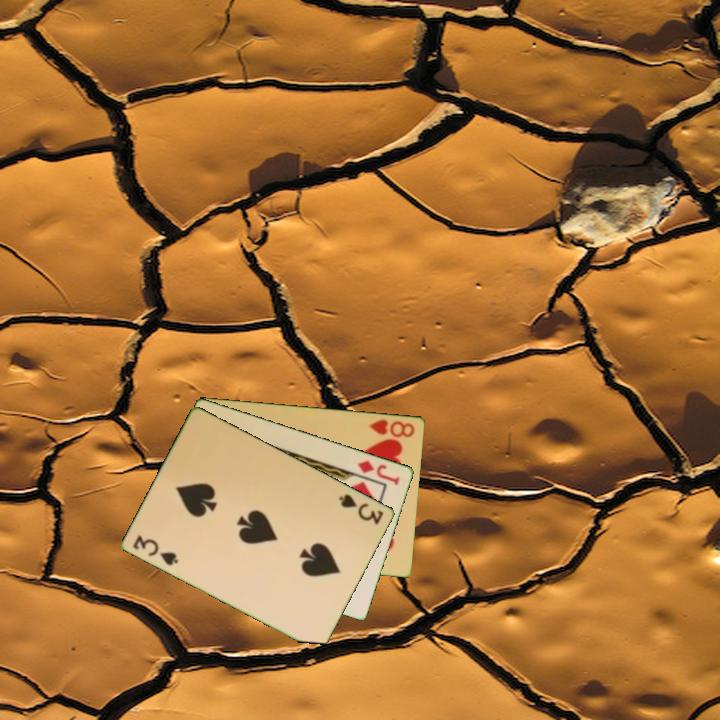3s: (130, 531, 182, 569), (336, 490, 387, 528)
8h: (366, 415, 418, 440)
Jd: (354, 456, 403, 488)
